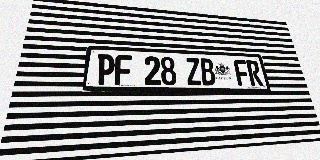2: (144, 56, 161, 85)
8: (160, 57, 177, 85)
B: (199, 58, 216, 85)
F: (114, 55, 132, 85), (233, 60, 251, 86)
P: (96, 54, 115, 85)
R: (246, 60, 263, 86)
Z: (185, 58, 202, 85)
